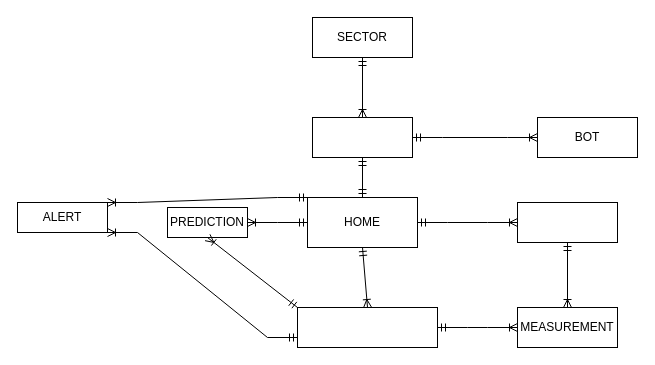
Image size: 655x365. Some labels were removed from this diagram. Here are the shapes that lost their labels. From the top down, the box of each, then its label:
(312, 116, 412, 158): USER
(516, 202, 618, 242): SENSOR
(296, 306, 438, 348): DAILY_COMSUMPTION
